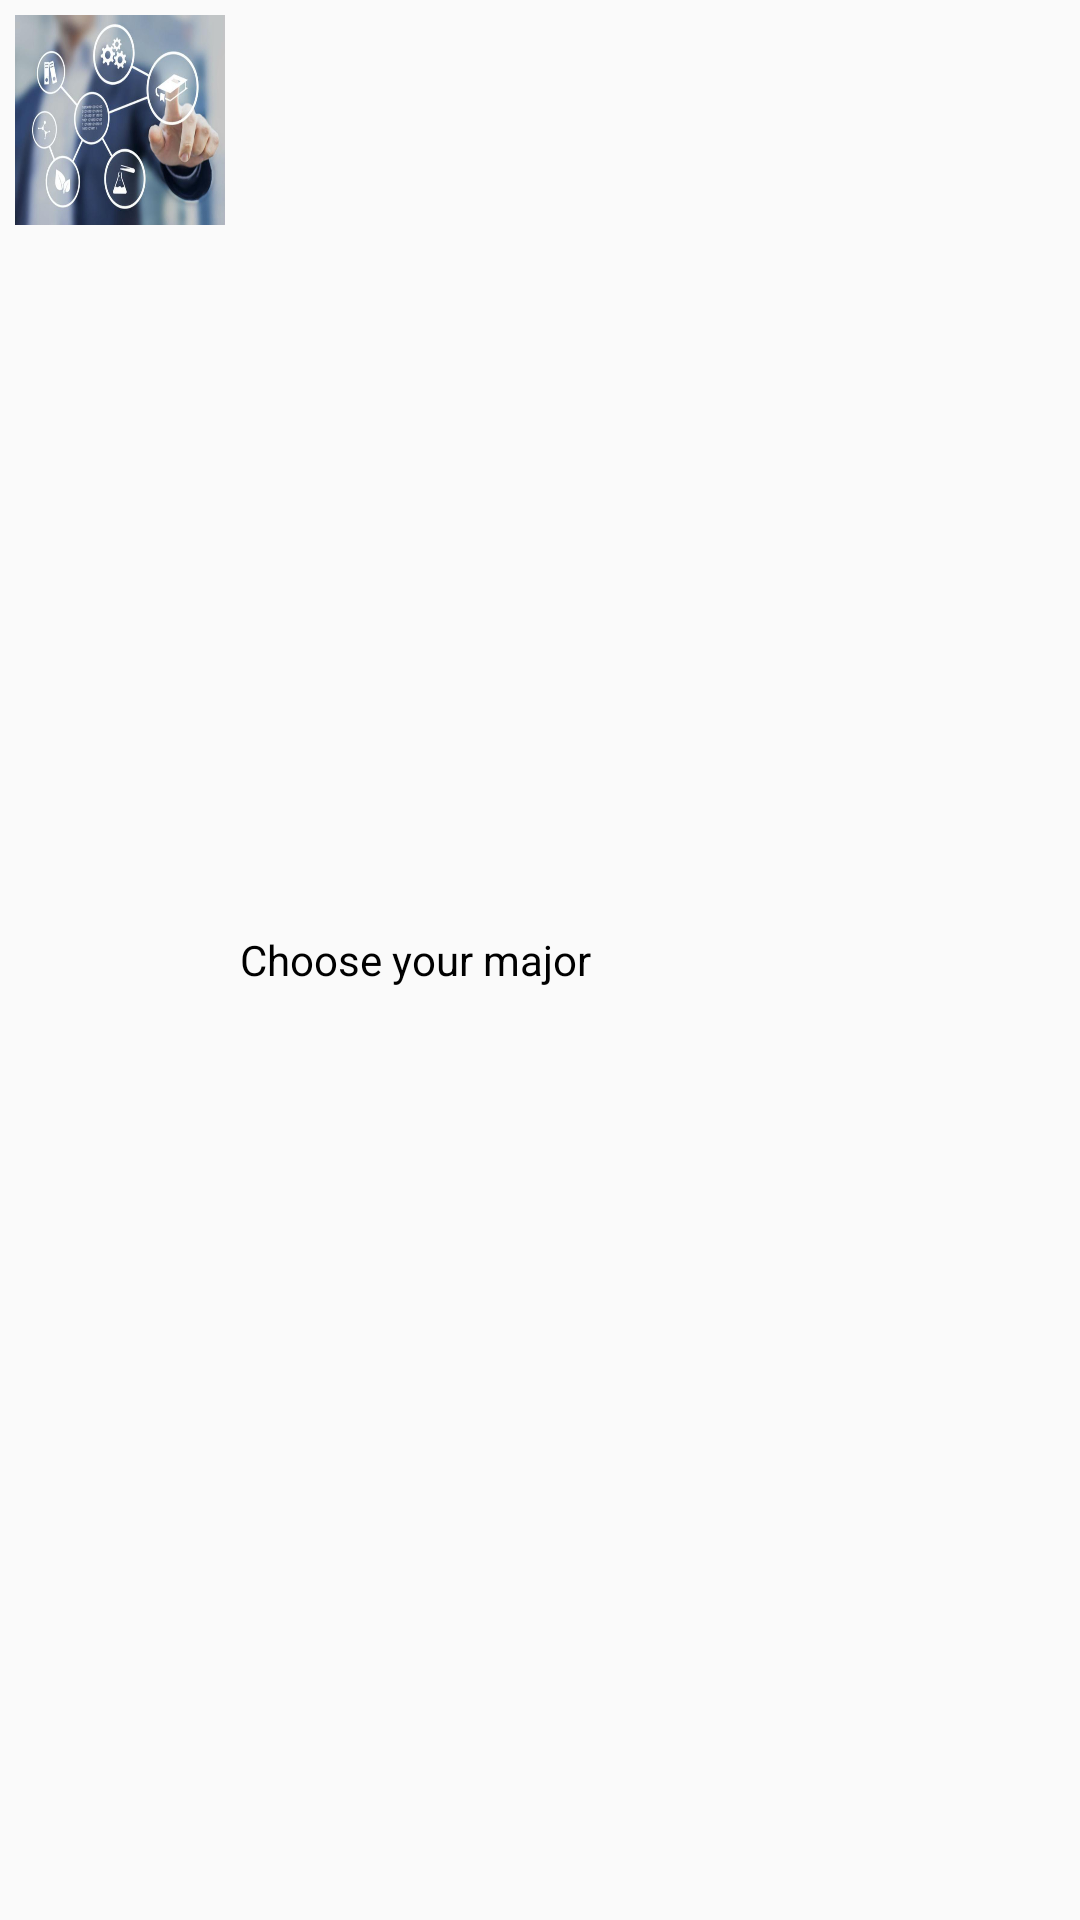

Icon bounding boxes for this 1080px×1920px phone screenshot, format (x1, y1, x2, y2):
major: (15, 15, 225, 225)
